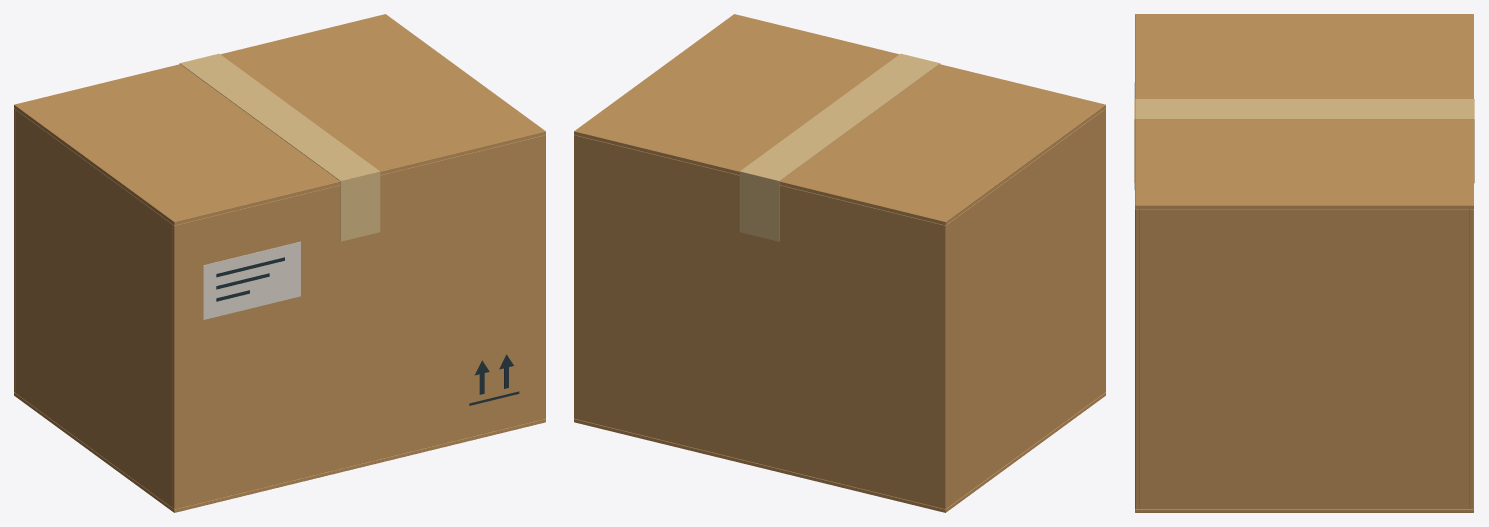
File: small-carton.glb
The picture shows the model from 3 angles, left to right: view 1: azimuth 30°, elevation 25°; view 2: azimuth 150°, elevation 25°; view 3: azimuth 270°, elevation 25°; orthographic projection. The views are drawn at different scales.
Parts seen in each view (by area): view 1: small-carton; view 2: small-carton; view 3: small-carton.
Boxes of the visible parts, x1,y1,x2,y2 form: small-carton: (14,14,545,512); small-carton: (574,14,1105,512); small-carton: (1134,14,1474,512).
Bounding box in the file's own units: 0.32 × 0.24 × 0.24.
